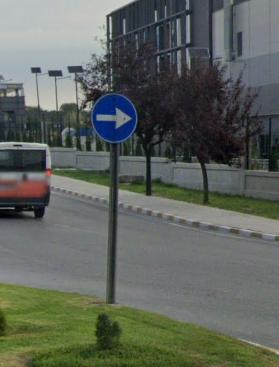turnright: (94, 96, 139, 142)
